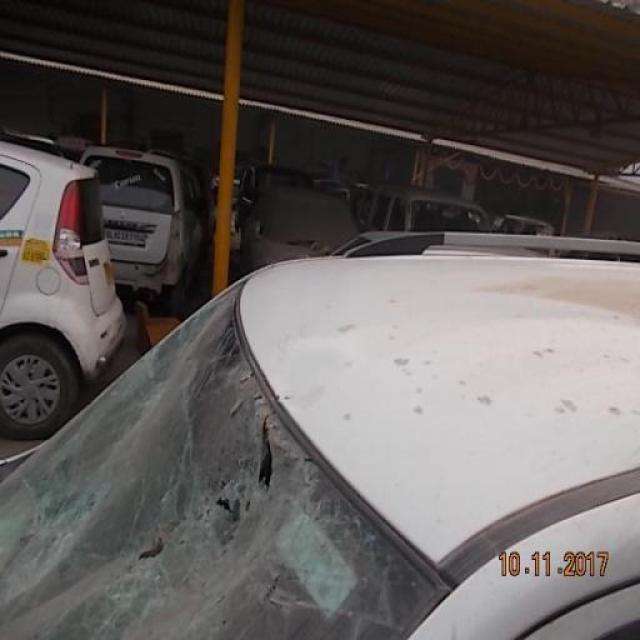dent: (258, 333, 334, 401)
shatter: (0, 278, 449, 640)
